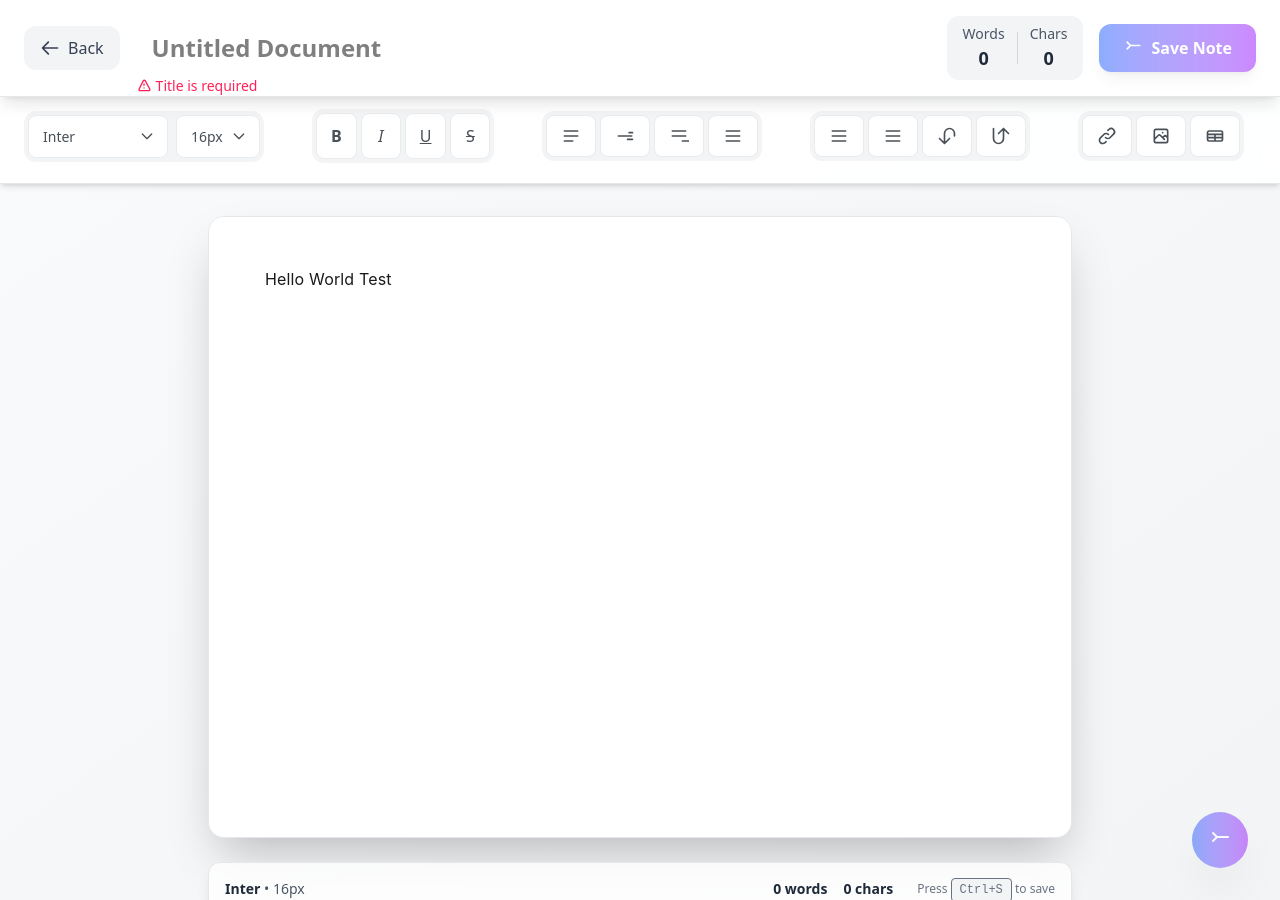
Test: NoteForm Component › updates word and character count
Expected: the text "0 words" is shown, x1=773 y1=879 x2=827 y2=899
Expected: the text "0 chars" is shown, x1=843 y1=879 x2=893 y2=899
Clear the text box labelled "Hello World Test": (640, 527) x1=209 y1=217 x2=1071 y2=837
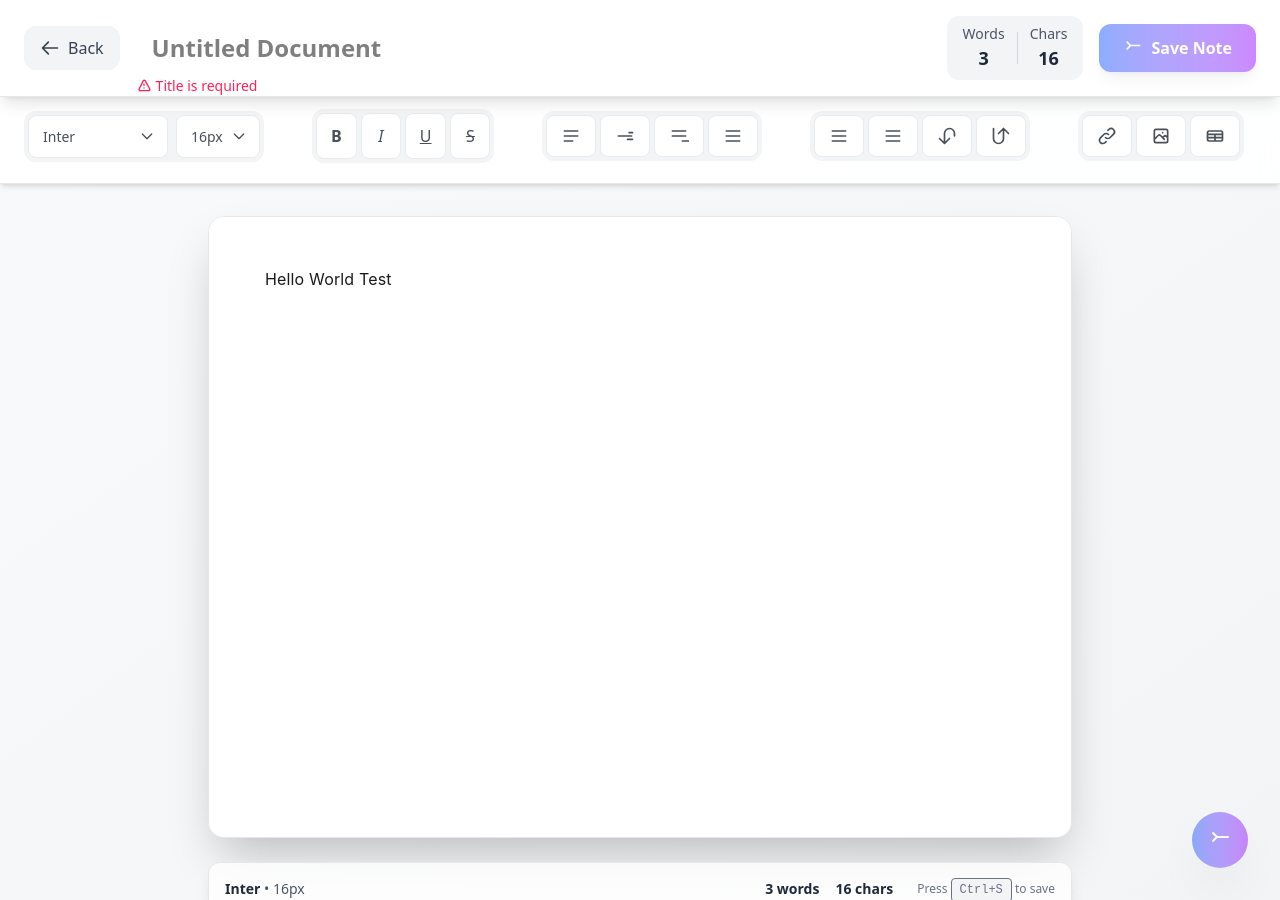
Expected: the text "3 words" is shown, x1=765 y1=879 x2=819 y2=899
Expected: the text "16 chars" is shown, x1=835 y1=879 x2=893 y2=899
